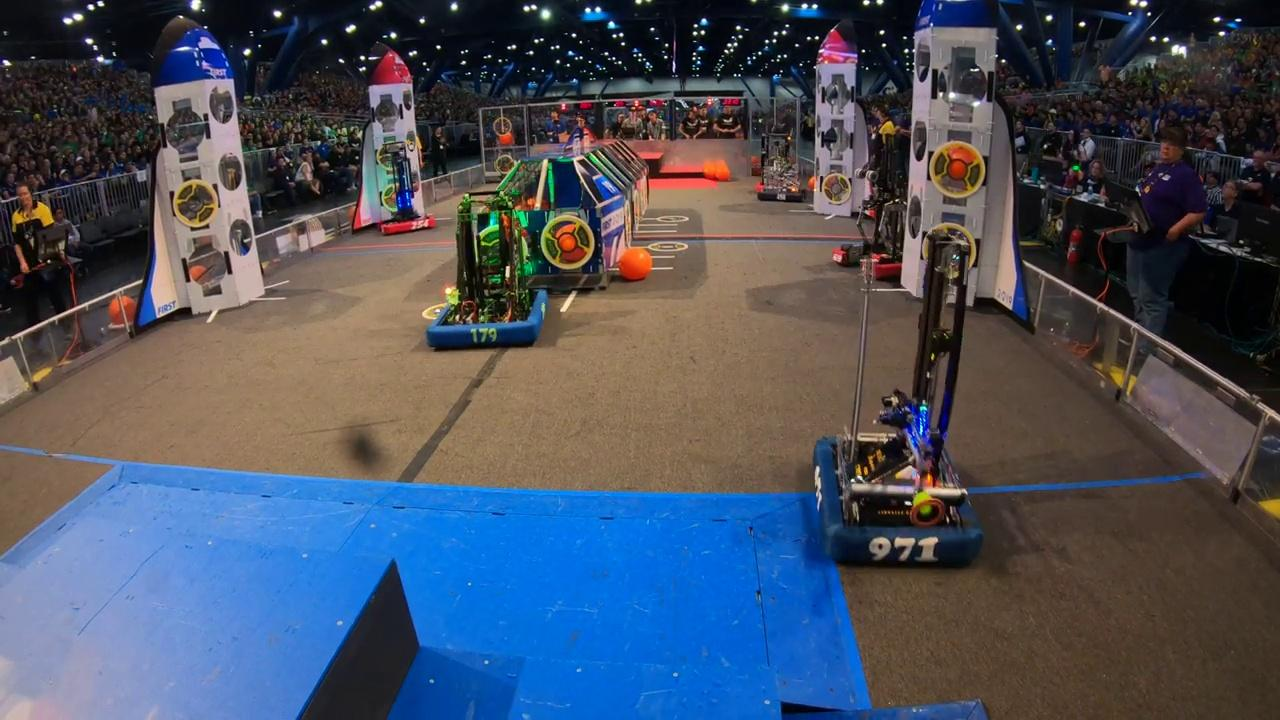robot: (801, 232, 988, 577), (422, 190, 551, 353), (827, 187, 909, 283), (373, 146, 440, 236), (755, 152, 807, 204)
